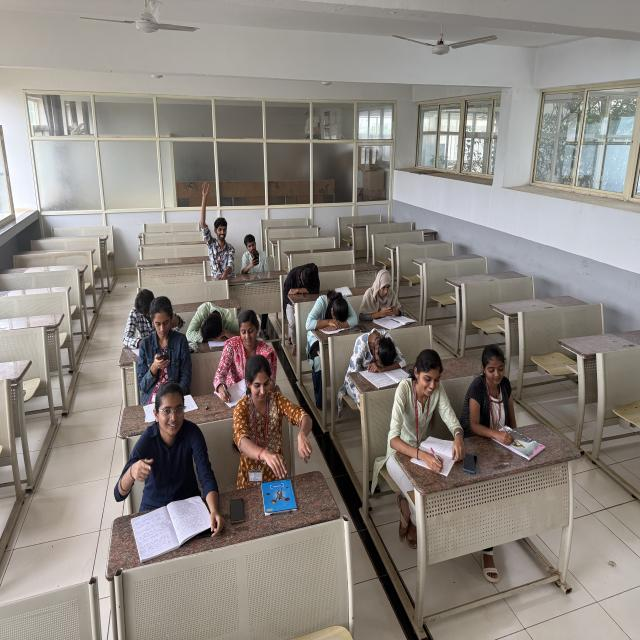Hand Rising: (190, 180, 238, 282)
Sleeping: (346, 322, 410, 398), (296, 284, 366, 348), (275, 257, 327, 321), (182, 294, 238, 353)
Using Phone: (132, 295, 194, 392), (361, 263, 409, 328), (239, 230, 270, 280)
Writing: (387, 345, 478, 496), (465, 342, 535, 468), (212, 306, 264, 411)
